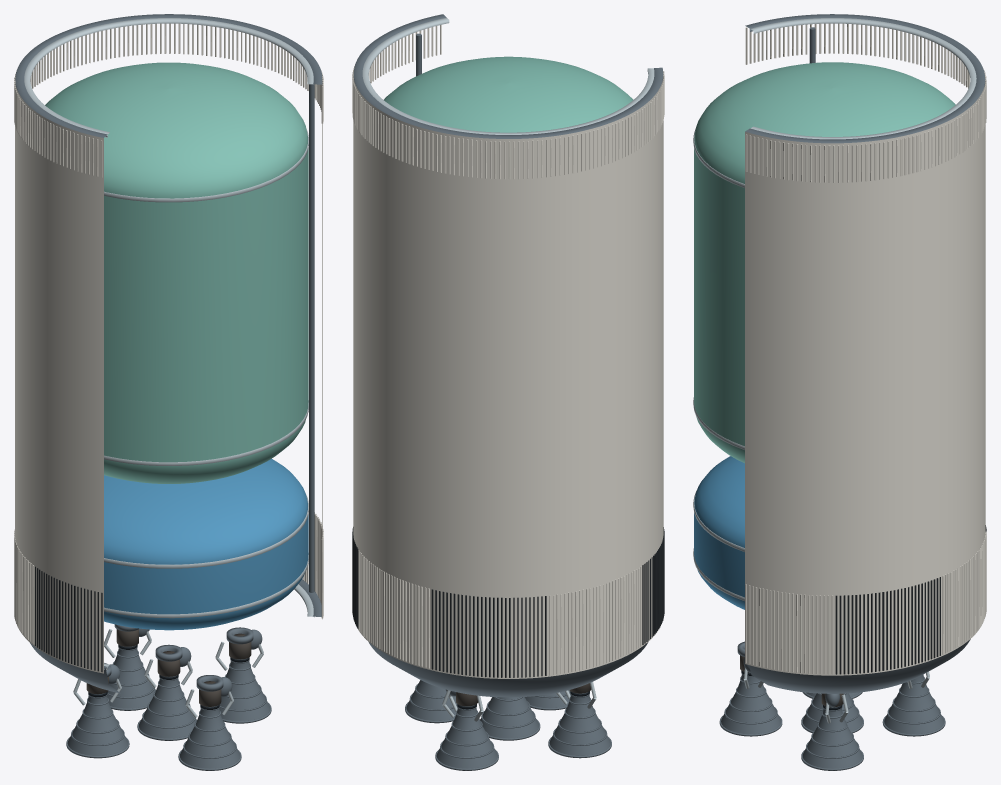
The model's file is s_ii_cutaway.glb.
3 renders of one model, left to right at view 1: azimuth 30°, elevation 25°; view 2: azimuth 150°, elevation 25°; view 3: azimuth 270°, elevation 25°, orthographic.
Parts seen in each view (by area): view 1: s_ii.cutaway.lh2_tank.mesh, s_ii.skin.mesh, s_ii.cutaway.lox_tank.mesh, s_ii.mesh, s_ii.cutaway.mesh, s_ii.j2_05.nozzle.mesh, s_ii.j2_02.nozzle.mesh, s_ii.j2_01.nozzle.mesh, s_ii.j2_03.nozzle.mesh, s_ii.j2_04.nozzle.mesh, s_ii.j2_03.mesh, s_ii.j2_01.mesh (+4 smaller); view 2: s_ii.skin.mesh, s_ii.cutaway.lh2_tank.mesh, s_ii.mesh, s_ii.thrust_structure.mesh, s_ii.j2_04.nozzle.mesh, s_ii.j2_05.nozzle.mesh, s_ii.j2_01.nozzle.mesh, s_ii.j2_03.nozzle.mesh, s_ii.j2_02.nozzle.mesh, s_ii.j2_04.mesh; view 3: s_ii.skin.mesh, s_ii.cutaway.lh2_tank.mesh, s_ii.cutaway.lox_tank.mesh, s_ii.mesh, s_ii.thrust_structure.mesh, s_ii.j2_03.nozzle.mesh, s_ii.j2_02.nozzle.mesh, s_ii.j2_04.nozzle.mesh, s_ii.j2_01.nozzle.mesh.
Boxes of the visible parts, x1,y1,x2,y2 form: s_ii.cutaway.lh2_tank.mesh: (45,62,308,483); s_ii.skin.mesh: (14,23,323,673); s_ii.cutaway.lox_tank.mesh: (104,458,308,630); s_ii.mesh: (15,14,322,670); s_ii.cutaway.mesh: (309,84,314,592); s_ii.j2_05.nozzle.mesh: (66,692,129,758); s_ii.j2_02.nozzle.mesh: (178,704,241,770); s_ii.j2_01.nozzle.mesh: (137,674,196,740); s_ii.j2_03.nozzle.mesh: (219,657,271,723); s_ii.j2_04.nozzle.mesh: (107,644,155,710); s_ii.j2_03.mesh: (215,627,263,670); s_ii.j2_01.mesh: (144,644,192,687); s_ii.skin.mesh: (352,25,664,678); s_ii.cutaway.lh2_tank.mesh: (384,56,633,132); s_ii.mesh: (353,14,663,138); s_ii.thrust_structure.mesh: (368,641,648,697); s_ii.j2_04.nozzle.mesh: (435,704,498,770); s_ii.j2_05.nozzle.mesh: (548,691,611,758); s_ii.j2_01.nozzle.mesh: (480,697,540,740); s_ii.j2_03.nozzle.mesh: (405,680,457,723); s_ii.j2_02.nozzle.mesh: (525,690,570,710); s_ii.j2_04.mesh: (442,689,483,721); s_ii.skin.mesh: (745,23,986,675); s_ii.cutaway.lh2_tank.mesh: (693,62,955,463); s_ii.cutaway.lox_tank.mesh: (693,456,744,609); s_ii.mesh: (745,14,985,143); s_ii.thrust_structure.mesh: (749,639,970,693); s_ii.j2_03.nozzle.mesh: (801,705,863,770); s_ii.j2_02.nozzle.mesh: (719,670,782,736); s_ii.j2_04.nozzle.mesh: (882,674,945,736); s_ii.j2_01.nozzle.mesh: (801,693,863,733).
Bounding box in the file's own units: 10.12 × 23.37 × 9.63.
